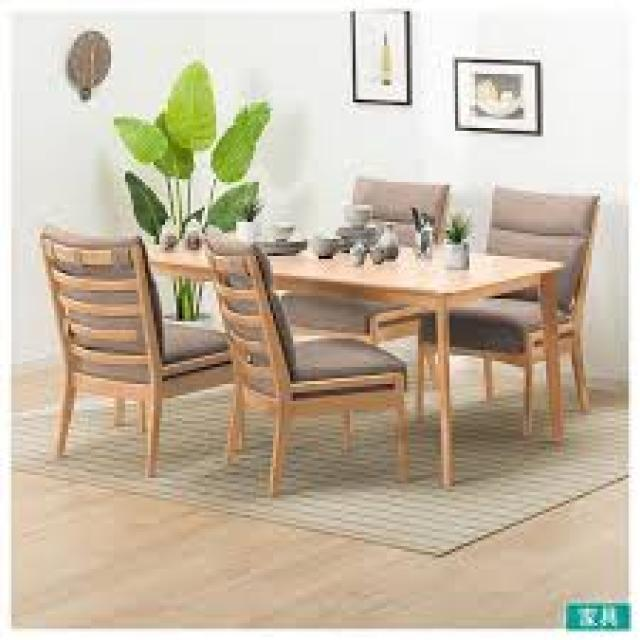table: (38, 159, 612, 501)
